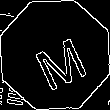M_NW: (23, 22, 87, 88)
